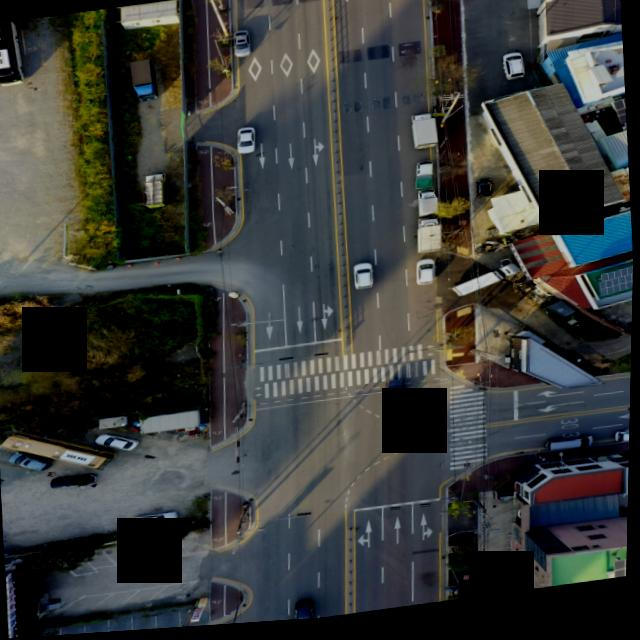car: (545, 441, 598, 463), (14, 447, 55, 474), (94, 431, 138, 455), (53, 471, 98, 489), (132, 514, 179, 530), (502, 57, 526, 87), (351, 267, 374, 295), (415, 264, 437, 292), (385, 383, 406, 411), (235, 129, 256, 156), (230, 34, 251, 61), (294, 604, 315, 624), (476, 185, 494, 205), (616, 437, 632, 450)
large_bus: (5, 418, 116, 479), (0, 17, 29, 89)
medium_truck: (451, 269, 522, 306), (124, 59, 160, 106), (409, 117, 441, 158), (411, 222, 443, 261)
small_truck: (139, 174, 167, 212), (410, 190, 440, 222), (413, 164, 437, 195)
